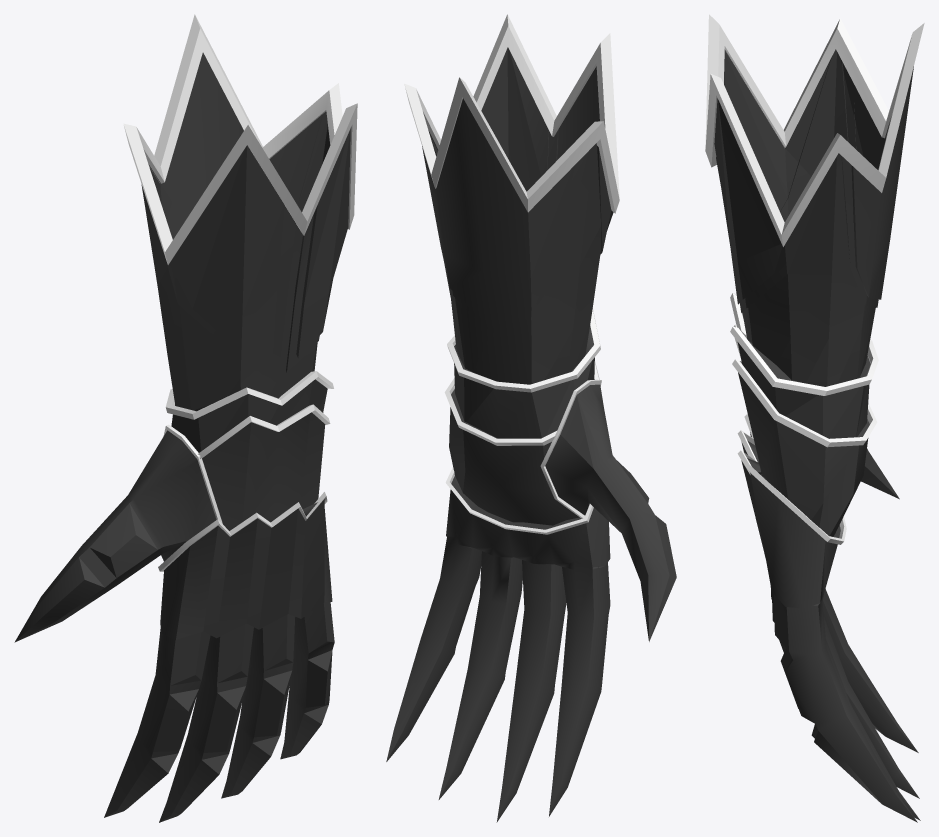
Rendered from gauntlet_left.fbx.
3 views of the same model, side by side, from view 1: azimuth 30°, elevation 25°; view 2: azimuth 150°, elevation 25°; view 3: azimuth 270°, elevation 25° (orthographic). The views are drawn at different scales.
Parts seen in each view (by area): view 1: gauntlet; view 2: gauntlet; view 3: gauntlet.
Boxes of the visible parts, x1,y1,x2,y2 form: gauntlet: (14,14,357,822); gauntlet: (386,14,676,822); gauntlet: (705,14,924,822).
Bounding box in the file's own units: 26.99 × 69.82 × 17.45.
